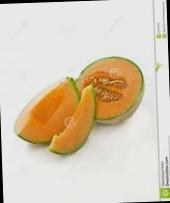Melon Ripe: (76, 54, 146, 126), (11, 73, 82, 143), (47, 82, 99, 154)
